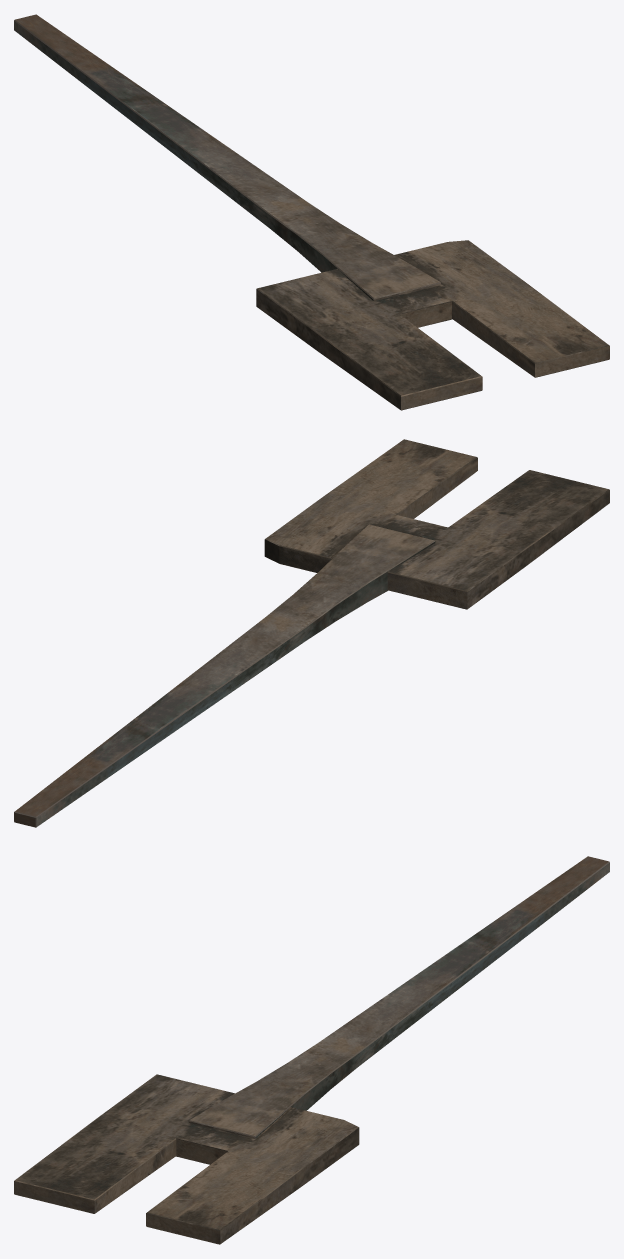
File: Muxian.obj
3 views of the same model, one above another, from view 1: azimuth 30°, elevation 25°; view 2: azimuth 150°, elevation 25°; view 3: azimuth 330°, elevation 25° (orthographic).
Visible parts, largest first — view 1: muxian; view 2: muxian; view 3: muxian.
Boxes of the visible parts, <box> form: muxian: <box>14,14,609,410</box>; muxian: <box>14,439,609,827</box>; muxian: <box>14,856,609,1244</box>.
Size of the model in its own units: 11.62 by 1.27 by 46.64.
1 material, 1 textured.
